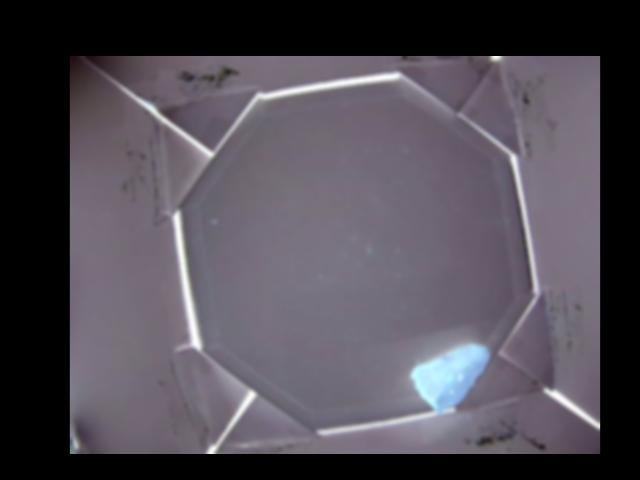Brisk: (411, 343, 488, 413)
